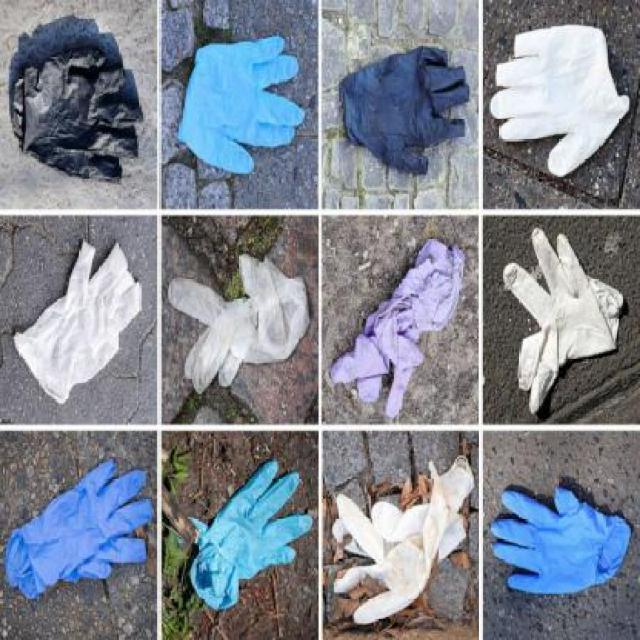gloved_hand: (490, 22, 630, 198), (501, 231, 632, 418), (334, 453, 474, 627), (332, 232, 465, 414), (166, 236, 308, 398), (170, 22, 310, 186), (6, 23, 142, 191), (334, 28, 474, 187), (13, 242, 147, 402), (188, 452, 310, 622), (484, 463, 632, 603), (4, 460, 150, 600)
